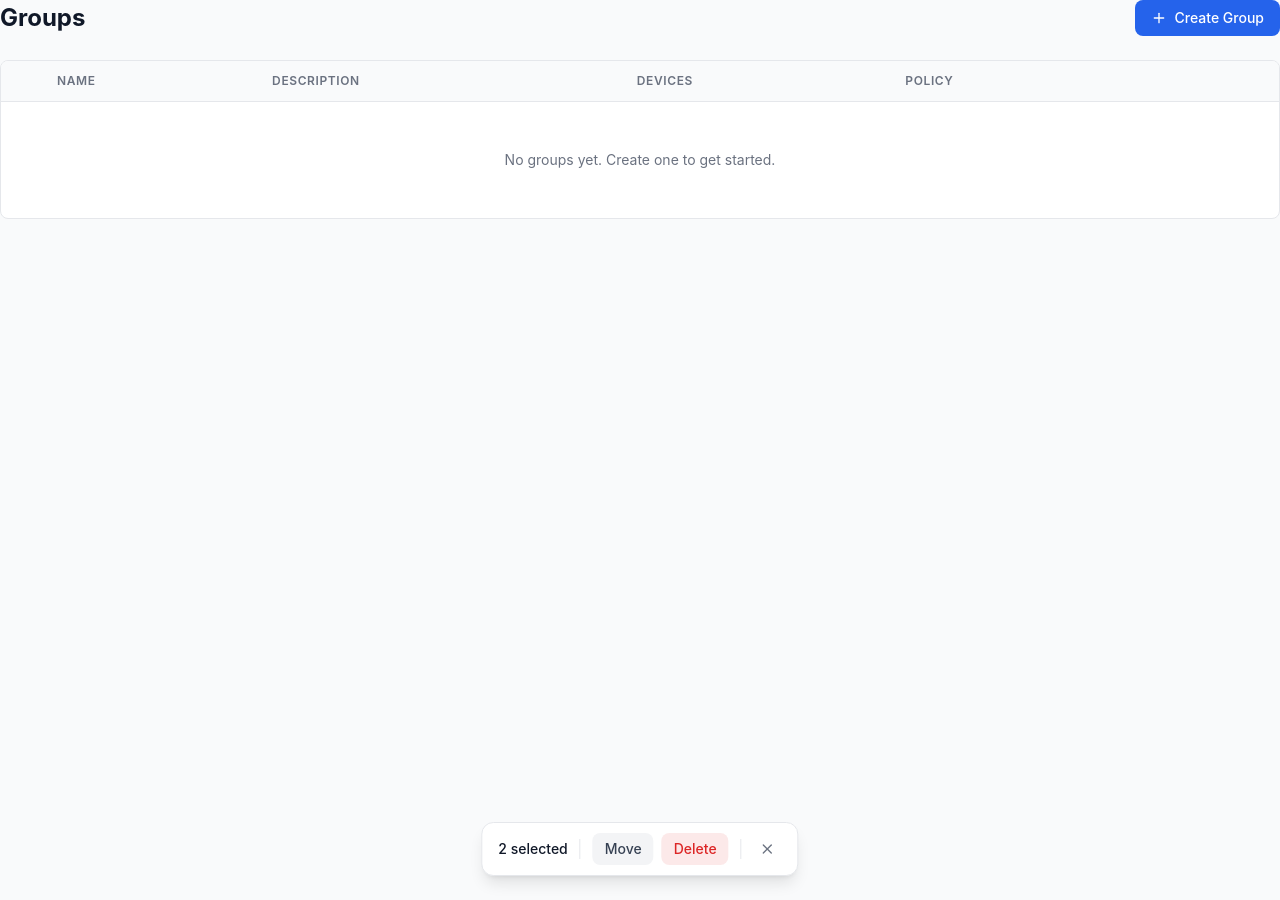
it: Groups bulk actions › shows warning message when bulk move returns 403
Step 1. Click the button "Move" → (623, 849), box [593,833,654,865]
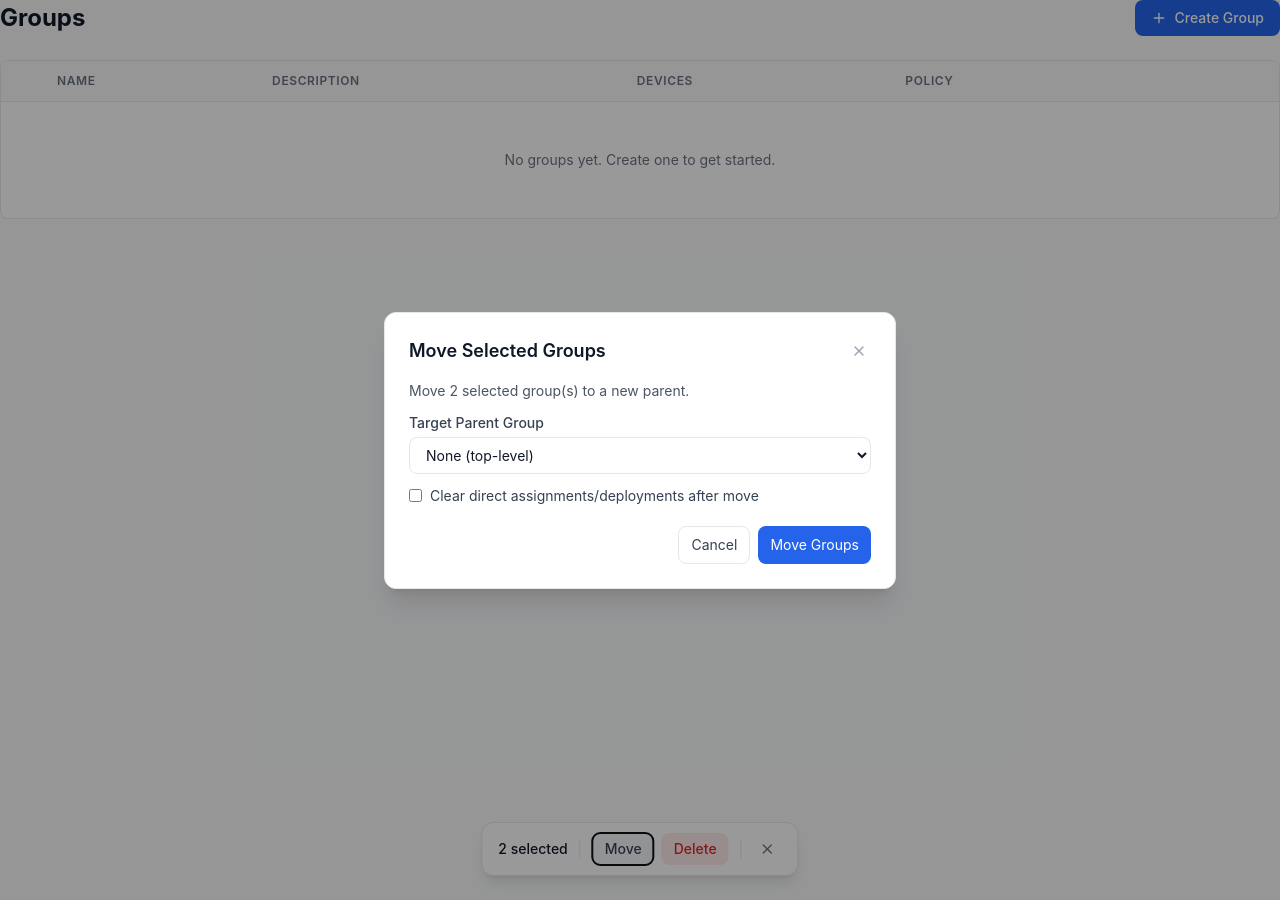
Step 2. Click the button "Move Groups" → (815, 544), box [758,526,871,564]
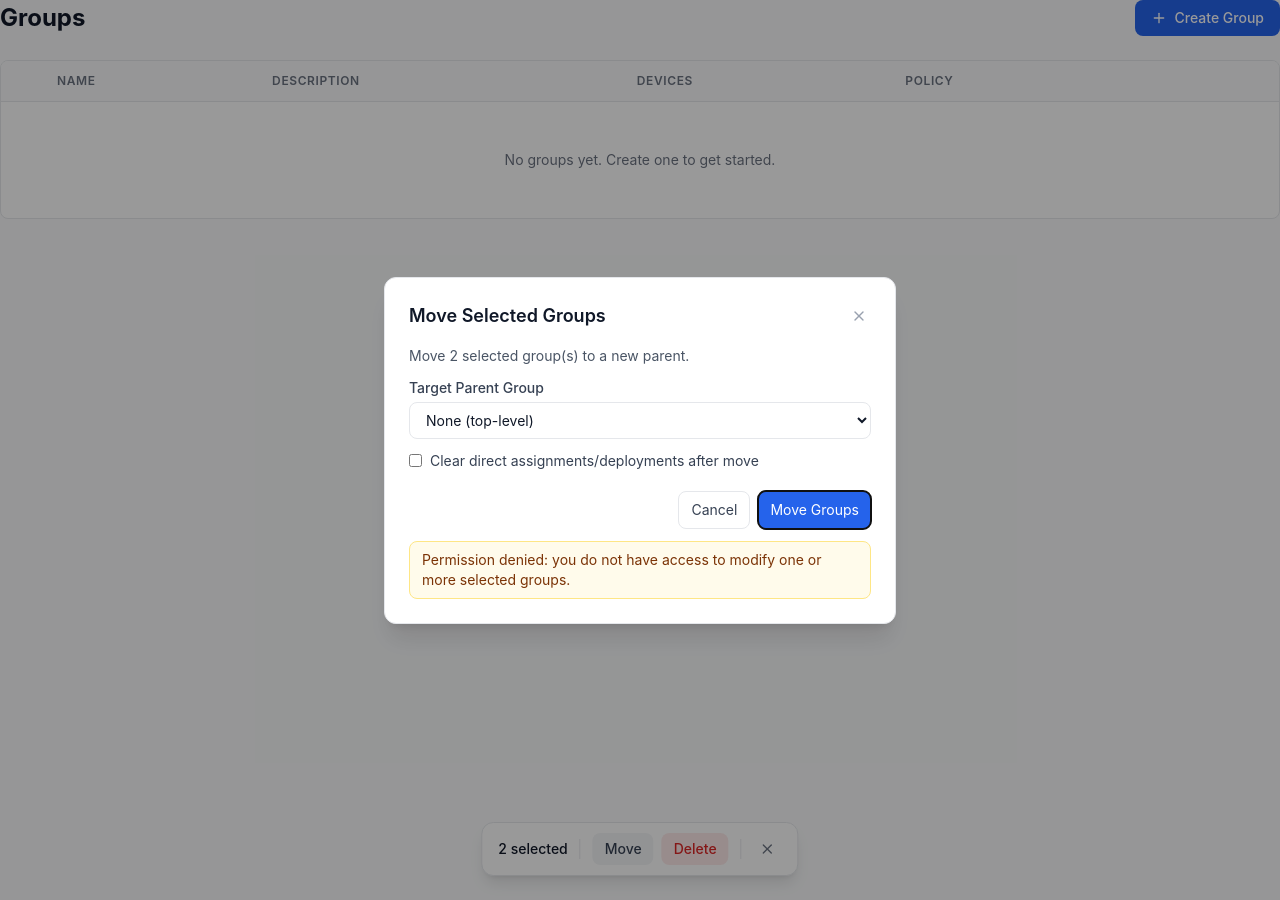
Expected: the text "Permission denied: you do not have access to modify one or more selected groups." is shown, [409,540,871,598]
